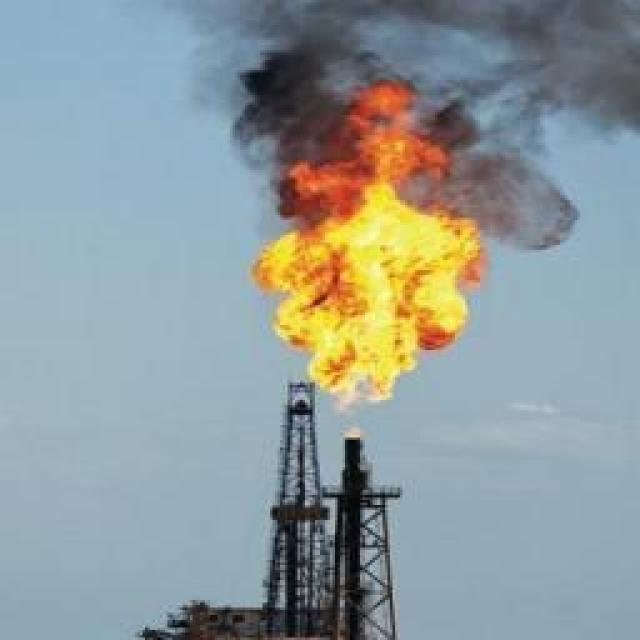fire: (255, 83, 486, 403)
smoke: (162, 0, 640, 259)
